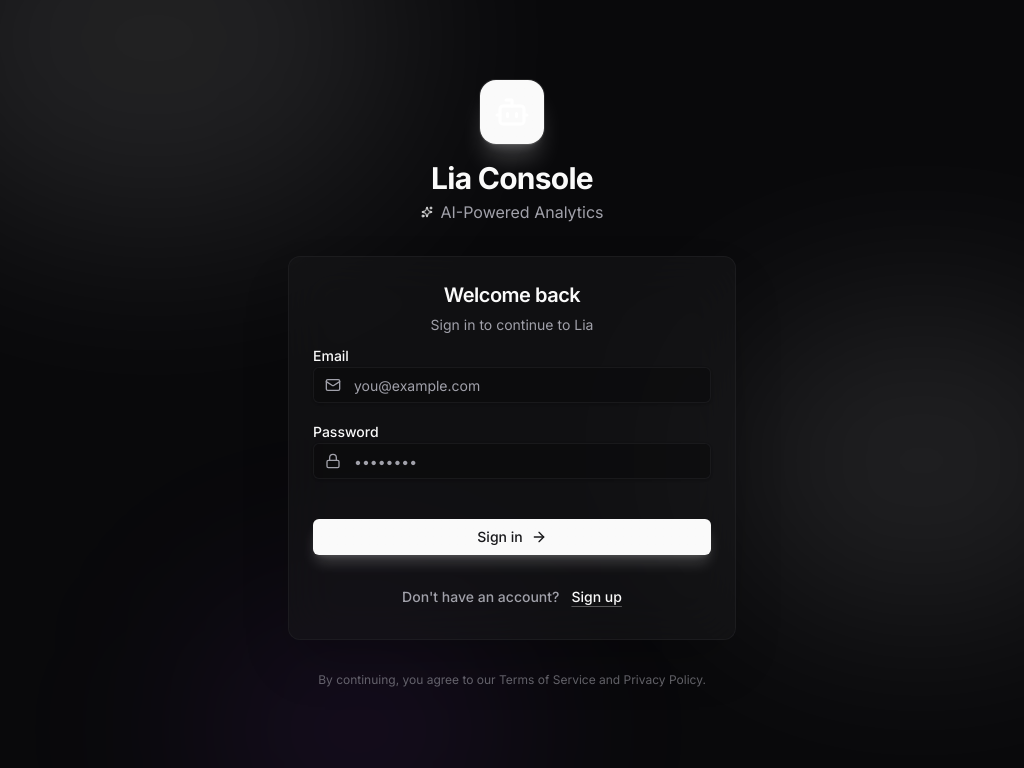
it: AuthPage › Form Toggle › switches back to login form when clicking sign in link
What coordinates should you click on to do the following:
click the button "Don't have an account? Sign up"
I would click on:
 (512, 597)
Its box is [386,579,638,615].
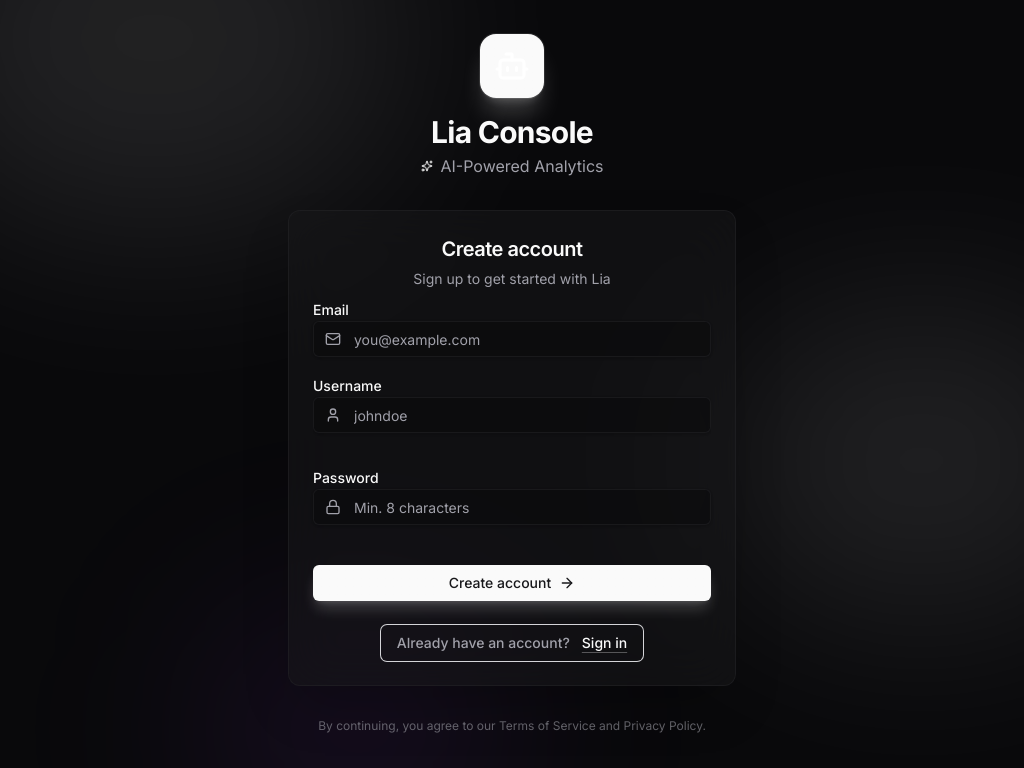
What coordinates should you click on to do the following:
click the button "Already have an account? Sign in"
I would click on:
 (512, 643)
Its box is [381,625,643,661].
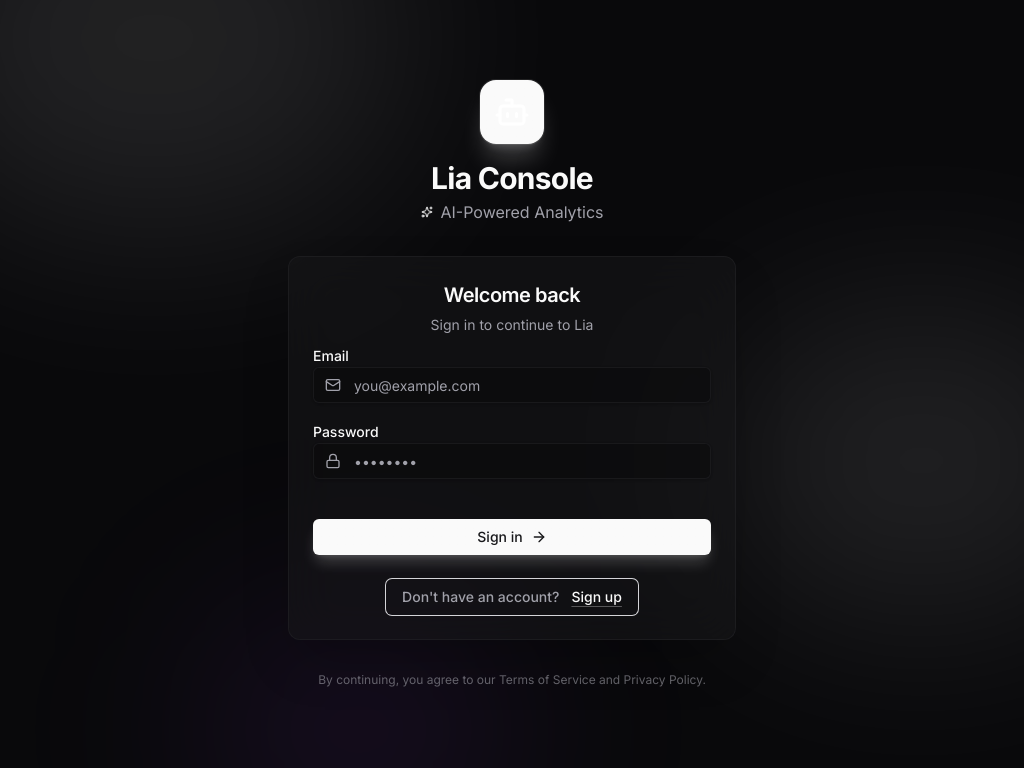
Result: the text "Welcome back" is shown at [444,283,580,307]
Result: the label labelled "Username" is gone
